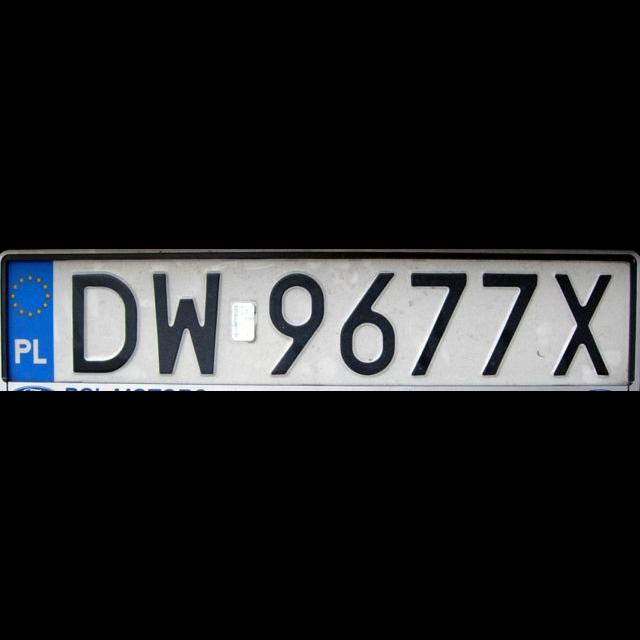pl_license_plate: (7, 260, 630, 384)
